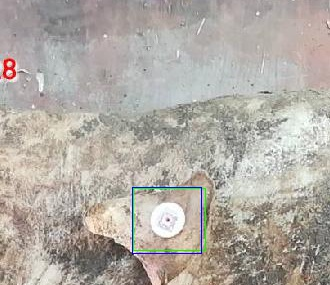text: (133, 188, 205, 250)
